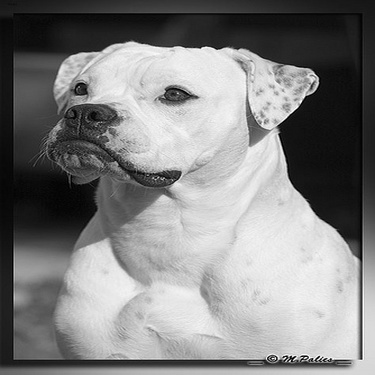dog: (44, 38, 357, 357)
